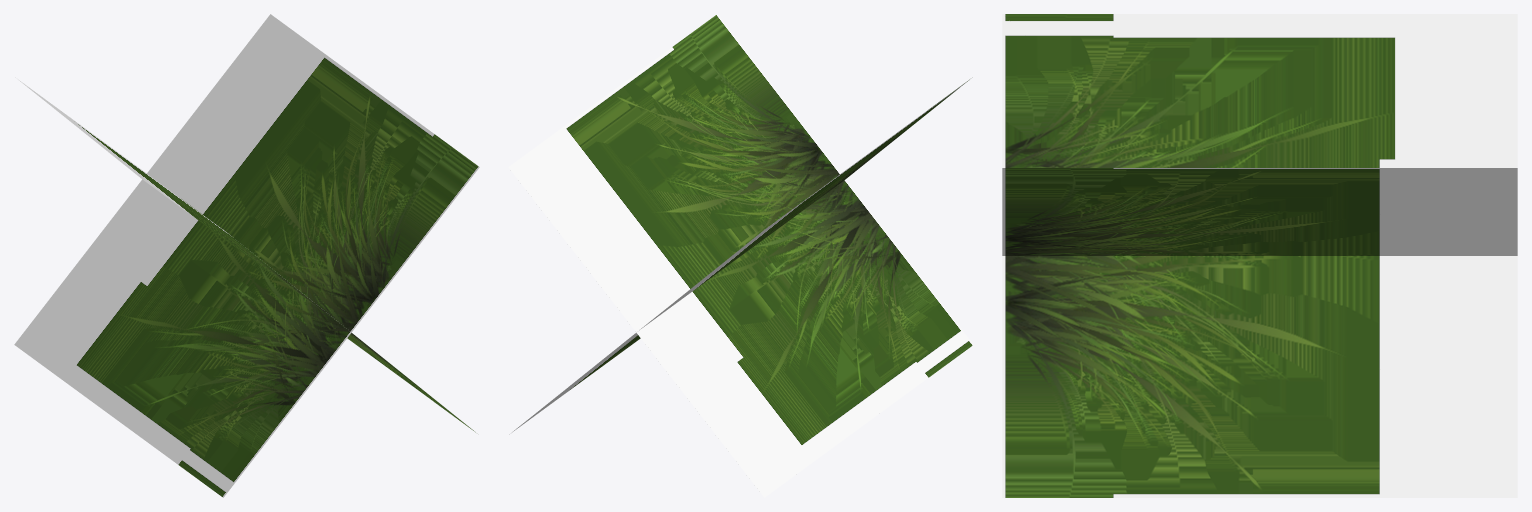
The model's file is grass1.fbx.
3 renders of one model, left to right at view 1: azimuth 30°, elevation 25°; view 2: azimuth 150°, elevation 25°; view 3: azimuth 270°, elevation 25°, orthographic. The views are drawn at different scales.
Visible parts, largest first — view 1: Grass1; view 2: Grass1; view 3: Grass1.
Boxes of the visible parts, <box> form: Grass1: <box>14,14,479,497</box>; Grass1: <box>508,14,973,497</box>; Grass1: <box>1002,14,1517,497</box>.
Bounding box in the file's own units: 35.36 × 35.36 × 50.
